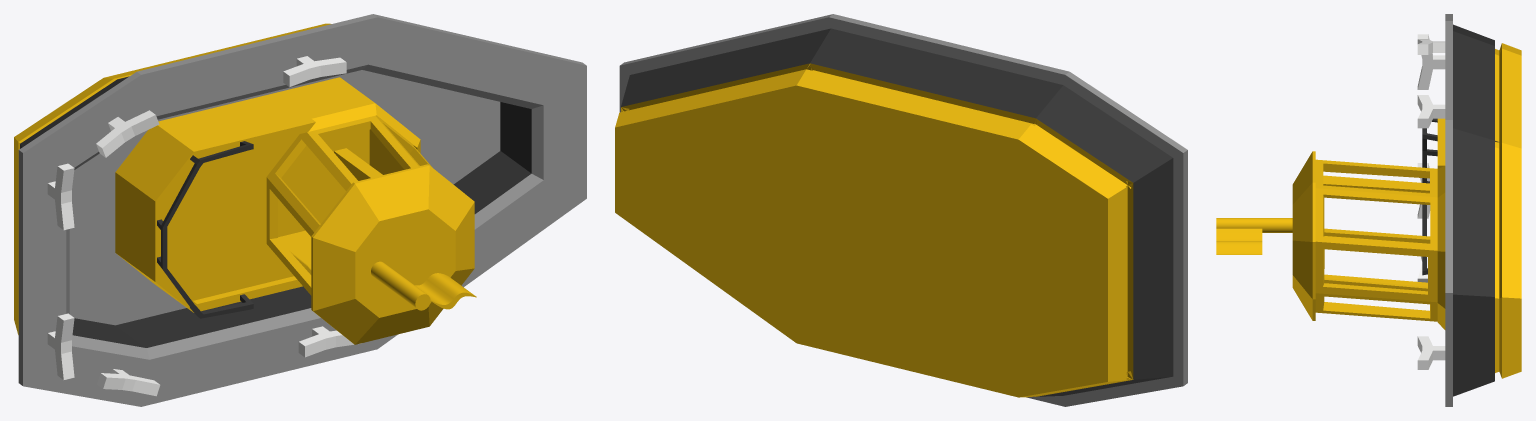
Rendered from LowPolyShip.glb.
The picture shows the model from 3 angles, left to right: view 1: azimuth 30°, elevation 25°; view 2: azimuth 150°, elevation 25°; view 3: azimuth 270°, elevation 25°; orthographic projection. The views are drawn at different scales.
Parts seen in each view (by area): view 1: 91cd14a0-c367-4965-9664-76fc24943bb7, c3ee32dc-34bb-4c2b-bcbe-96e55a128a13, 2c3afd58-58dd-4d85-b4e2-73257a20c1c4, d086cba5-5c20-4e93-ba02-9a85d2e97dc0, c0c71150-27ad-40ec-8fb9-d8fd90ec0974, e2e50fed-a0ff-47ed-aa95-33ef642fc9ce, 4ba6fedb-bbb7-42f6-926d-a5037473512d, b8c48b7d-ef10-43e4-95e3-0d464c5d967b, 92e6abac-b5e8-4302-b063-450c758b57d3, fe7b51f7-f1a4-4aee-b00d-2af9bbf5ad9e; view 2: c3ee32dc-34bb-4c2b-bcbe-96e55a128a13, e2e50fed-a0ff-47ed-aa95-33ef642fc9ce, c0c71150-27ad-40ec-8fb9-d8fd90ec0974; view 3: c3ee32dc-34bb-4c2b-bcbe-96e55a128a13, e2e50fed-a0ff-47ed-aa95-33ef642fc9ce, 2c3afd58-58dd-4d85-b4e2-73257a20c1c4, c0c71150-27ad-40ec-8fb9-d8fd90ec0974, 4ba6fedb-bbb7-42f6-926d-a5037473512d, 92e6abac-b5e8-4302-b063-450c758b57d3, b8c48b7d-ef10-43e4-95e3-0d464c5d967b.
Boxes of the visible parts, <box> form: 91cd14a0-c367-4965-9664-76fc24943bb7: <box>23,17,586,406</box>; c3ee32dc-34bb-4c2b-bcbe-96e55a128a13: <box>14,23,432,334</box>; 2c3afd58-58dd-4d85-b4e2-73257a20c1c4: <box>311,164,476,344</box>; d086cba5-5c20-4e93-ba02-9a85d2e97dc0: <box>69,70,500,325</box>; c0c71150-27ad-40ec-8fb9-d8fd90ec0974: <box>18,14,586,385</box>; e2e50fed-a0ff-47ed-aa95-33ef642fc9ce: <box>20,76,531,347</box>; 4ba6fedb-bbb7-42f6-926d-a5037473512d: <box>47,56,361,396</box>; b8c48b7d-ef10-43e4-95e3-0d464c5d967b: <box>157,141,253,318</box>; 92e6abac-b5e8-4302-b063-450c758b57d3: <box>308,103,420,153</box>; fe7b51f7-f1a4-4aee-b00d-2af9bbf5ad9e: <box>334,148,382,180</box>; c3ee32dc-34bb-4c2b-bcbe-96e55a128a13: <box>615,63,1133,397</box>; e2e50fed-a0ff-47ed-aa95-33ef642fc9ce: <box>621,28,1173,396</box>; c0c71150-27ad-40ec-8fb9-d8fd90ec0974: <box>619,14,1187,406</box>; c3ee32dc-34bb-4c2b-bcbe-96e55a128a13: <box>1315,43,1521,378</box>; e2e50fed-a0ff-47ed-aa95-33ef642fc9ce: <box>1453,24,1499,396</box>; 2c3afd58-58dd-4d85-b4e2-73257a20c1c4: <box>1216,151,1315,320</box>; c0c71150-27ad-40ec-8fb9-d8fd90ec0974: <box>1445,14,1452,406</box>; 4ba6fedb-bbb7-42f6-926d-a5037473512d: <box>1417,34,1445,369</box>; 92e6abac-b5e8-4302-b063-450c758b57d3: <box>1437,166,1445,329</box>; b8c48b7d-ef10-43e4-95e3-0d464c5d967b: <box>1422,118,1437,275</box>.
Bounding box in the file's own units: 0.366 × 0.206 × 0.2.
